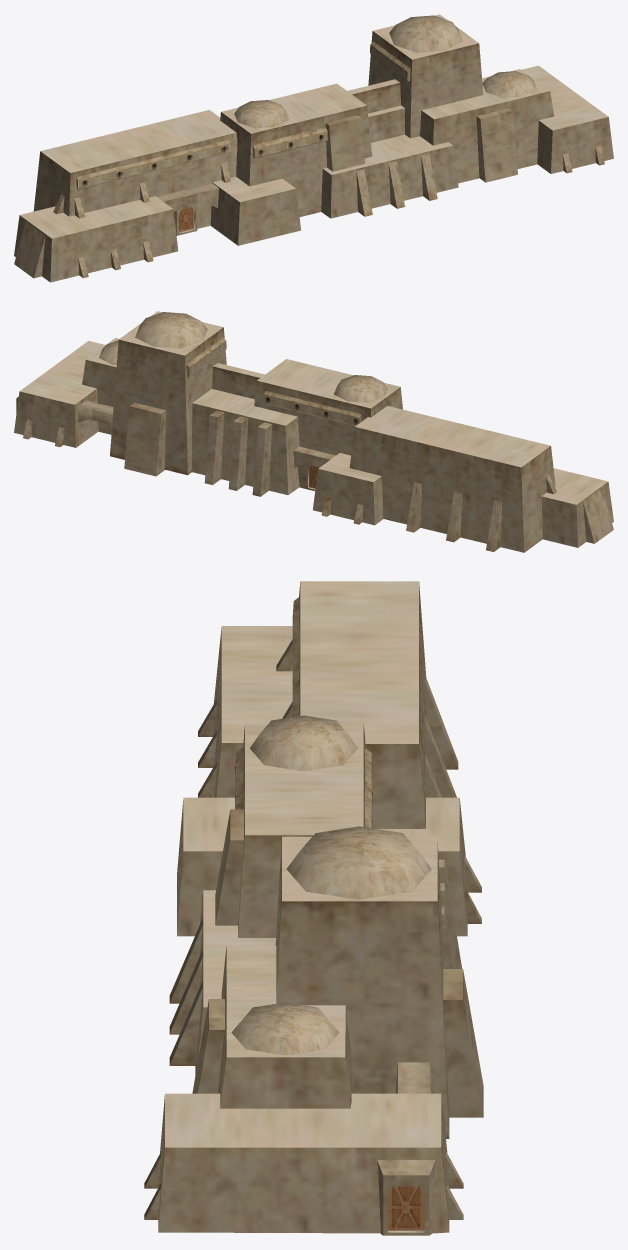
The model's file is thm_tato_block_bldg_64x16_s01_l2.fbx.
3 renders of one model, top to bottom at view 1: azimuth 30°, elevation 25°; view 2: azimuth 150°, elevation 25°; view 3: azimuth 270°, elevation 25°, orthographic. The views are drawn at different scales.
Visible parts, largest first — view 1: mesh_node; view 2: mesh_node; view 3: mesh_node.
Part boxes in pixels (<box>): mesh_node: <box>14,14,613,282</box>; mesh_node: <box>14,311,613,552</box>; mesh_node: <box>144,581,483,1235</box>.
Bounding box in the file's own units: 69.15 × 15.84 × 18.41.
